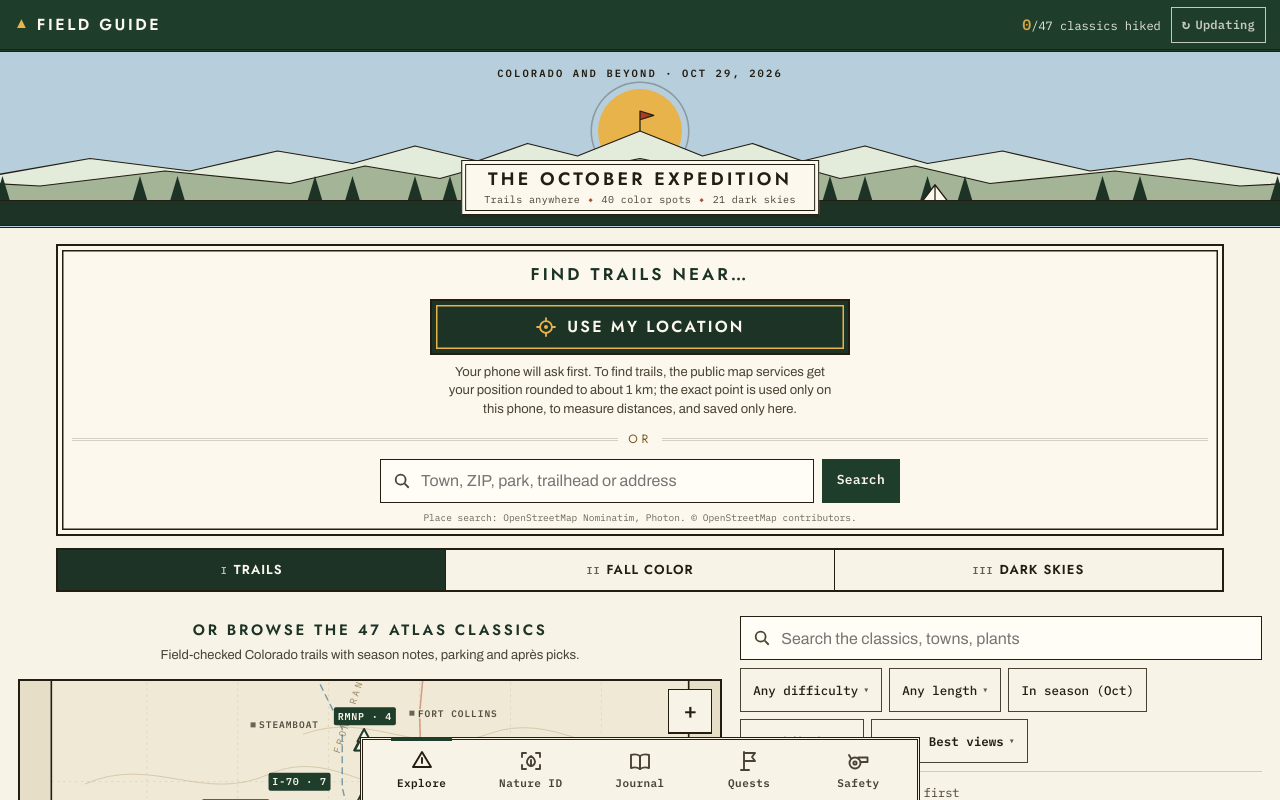
Scenario: navigation › tabs are in the URL, so back and shared links work
Step 1. Click the button "Quests" → (749, 770), box [695,740,804,799]
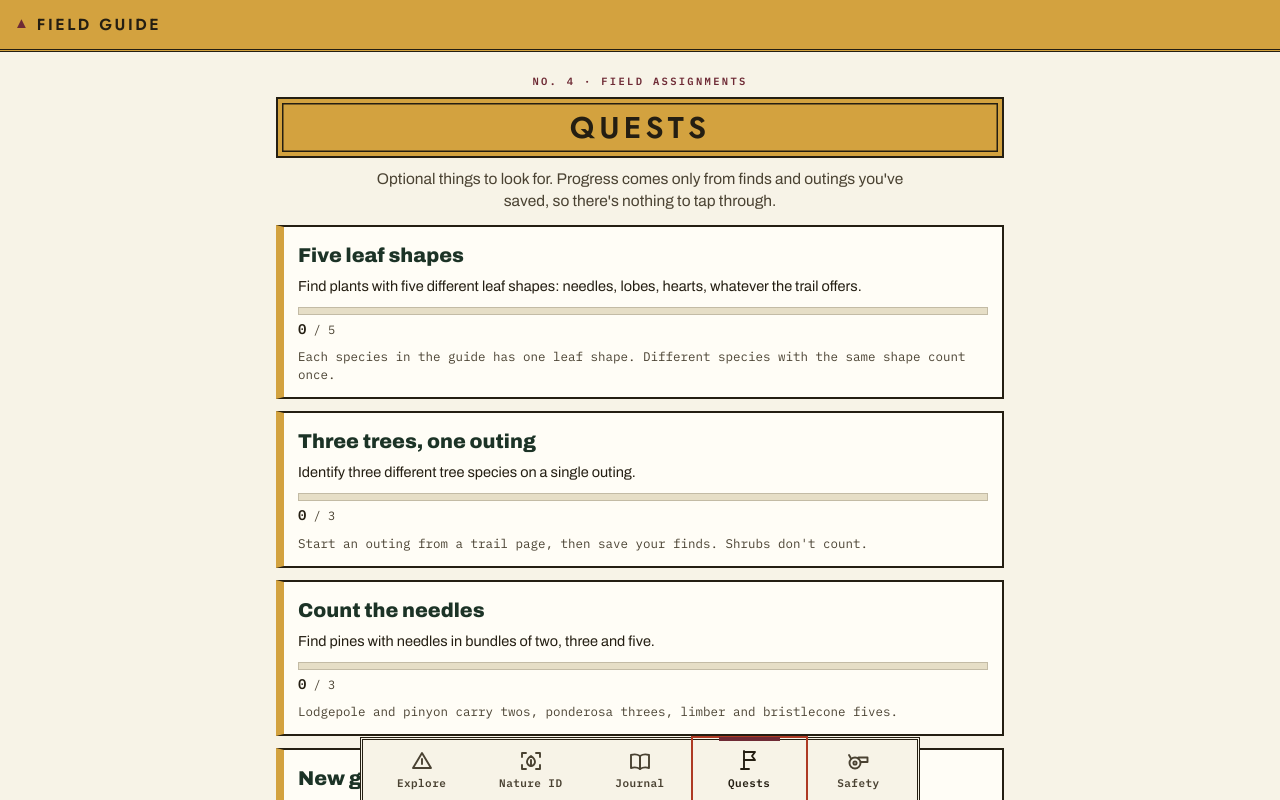
Result: the heading "Quests" is shown at [276,97,1004,158]
